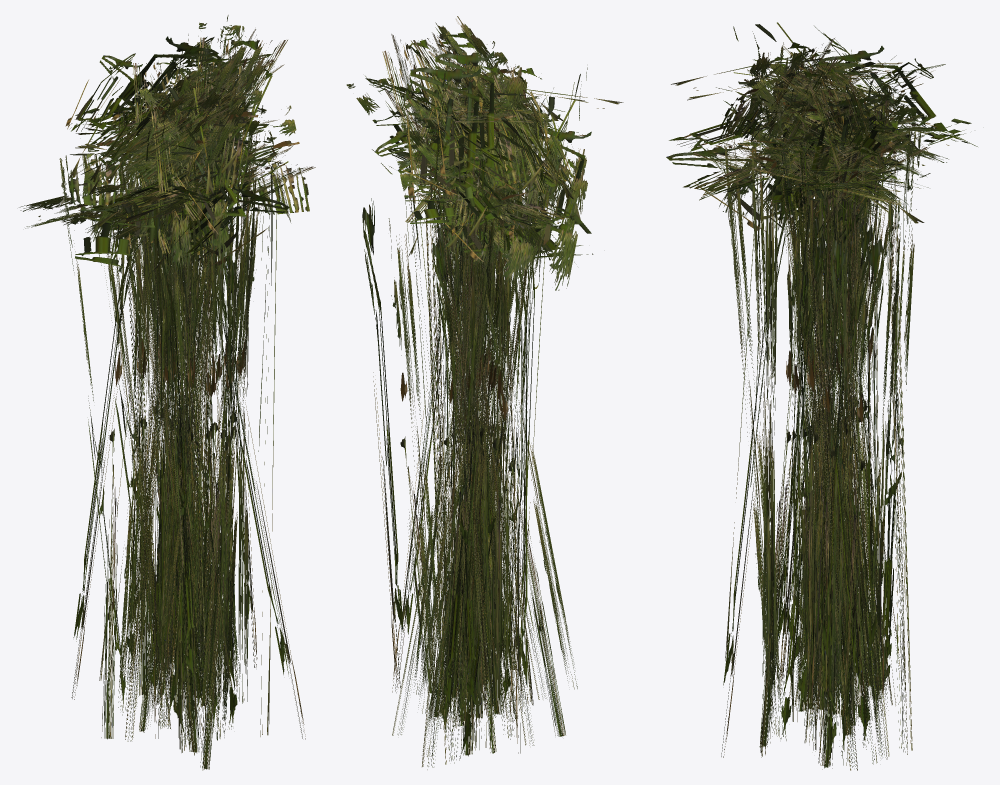
File: reed-grass-lod0.glb
3 views of the same model, side by side, from view 1: azimuth 30°, elevation 25°; view 2: azimuth 150°, elevation 25°; view 3: azimuth 270°, elevation 25° (orthographic). The views are drawn at different scales.
Visible parts, largest first — view 1: foliage; view 2: foliage; view 3: foliage.
Part boxes in pixels (box(x1,y1,x2,y2)): foliage: box(19, 15, 315, 770); foliage: box(346, 16, 623, 769); foliage: box(666, 22, 977, 770).
Size of the model in its own units: 0.6836 by 1.92 by 0.788.
Materials: 1 (1 with a texture image).
